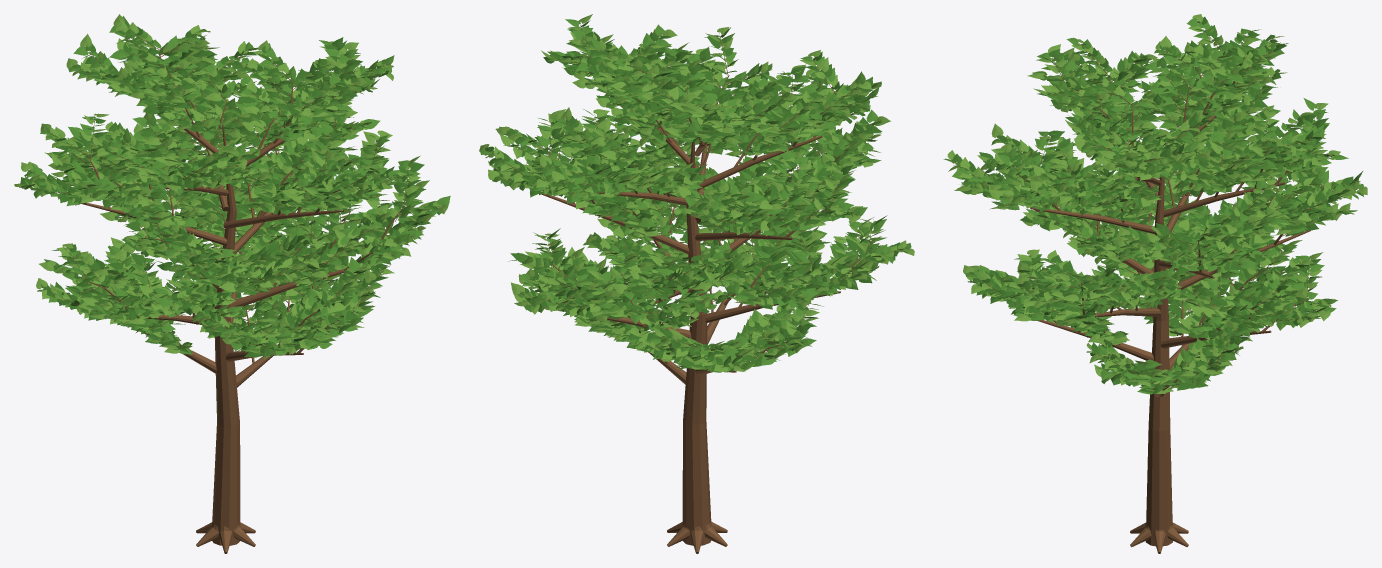
Rendered from mature_linden_hq_lod0.glb.
3 views of the same model, side by side, from view 1: azimuth 30°, elevation 25°; view 2: azimuth 150°, elevation 25°; view 3: azimuth 270°, elevation 25° (orthographic). The views are drawn at different scales.
Parts seen in each view (by area): view 1: Original_CC0_PBR_Mat_1, Original_CC0_PBR_Mat_2, Original_CC0_PBR_Mat_3, Original_CC0_PBR_Mat_0; view 2: Original_CC0_PBR_Mat_1, Original_CC0_PBR_Mat_2, Original_CC0_PBR_Mat_3, Original_CC0_PBR_Mat_0; view 3: Original_CC0_PBR_Mat_1, Original_CC0_PBR_Mat_2, Original_CC0_PBR_Mat_3, Original_CC0_PBR_Mat_0.
Part boxes in pixels (<box>): Original_CC0_PBR_Mat_1: <box>14,14,448,359</box>; Original_CC0_PBR_Mat_2: <box>19,24,450,356</box>; Original_CC0_PBR_Mat_3: <box>20,16,440,357</box>; Original_CC0_PBR_Mat_0: <box>20,24,444,553</box>; Original_CC0_PBR_Mat_1: <box>479,14,914,371</box>; Original_CC0_PBR_Mat_2: <box>480,19,911,372</box>; Original_CC0_PBR_Mat_3: <box>484,20,907,372</box>; Original_CC0_PBR_Mat_0: <box>483,22,908,553</box>; Original_CC0_PBR_Mat_1: <box>947,14,1367,393</box>; Original_CC0_PBR_Mat_2: <box>943,18,1363,394</box>; Original_CC0_PBR_Mat_3: <box>951,17,1363,392</box>; Original_CC0_PBR_Mat_0: <box>952,21,1360,553</box>.
Size of the model in its own units: 6.82 by 8.82 by 7.1.
